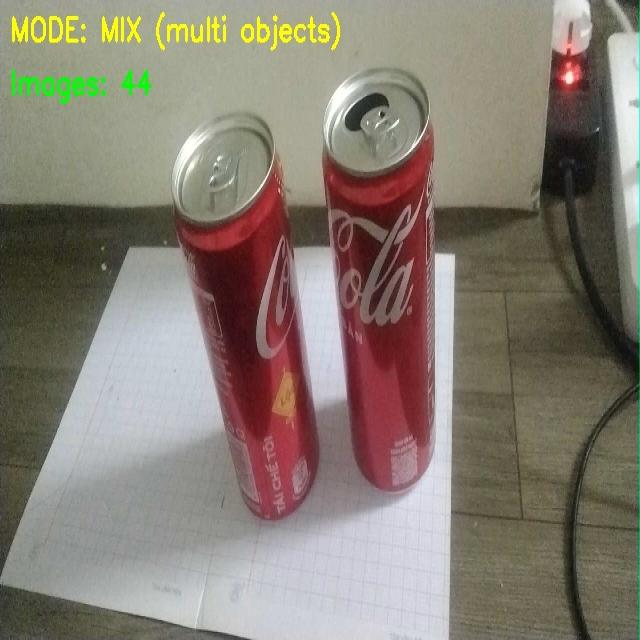Coca: (164, 106, 342, 530)
Coca_open: (324, 72, 474, 557)
